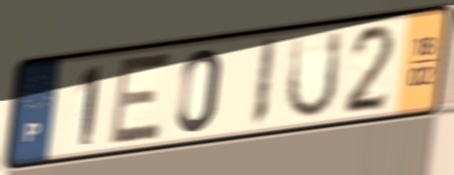0: (174, 46, 224, 137)
1: (77, 62, 101, 148)
2: (340, 22, 401, 116)
E: (106, 49, 174, 149)
I: (248, 35, 280, 131)
U: (282, 27, 346, 122)
